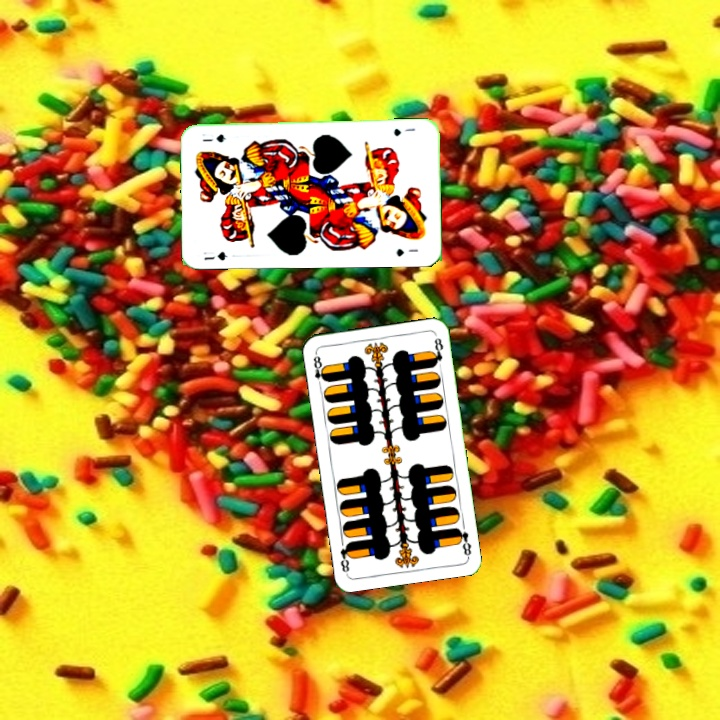E8: (309, 349, 330, 389), (452, 523, 474, 559)
GU: (199, 247, 230, 263), (390, 124, 417, 139)
